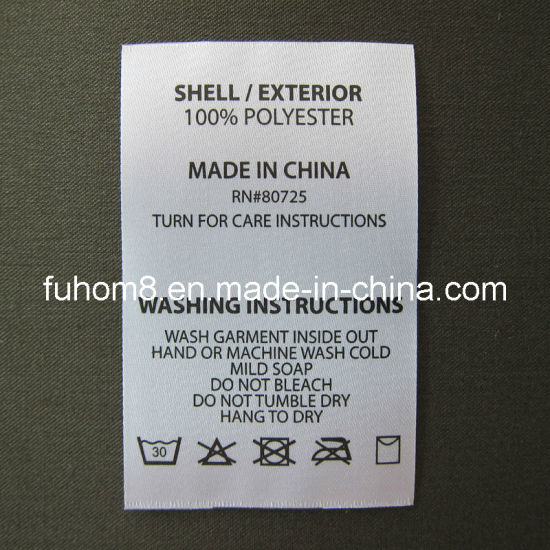do_not_bleach: (190, 434, 241, 470)
do_not_iron: (306, 435, 359, 469)
